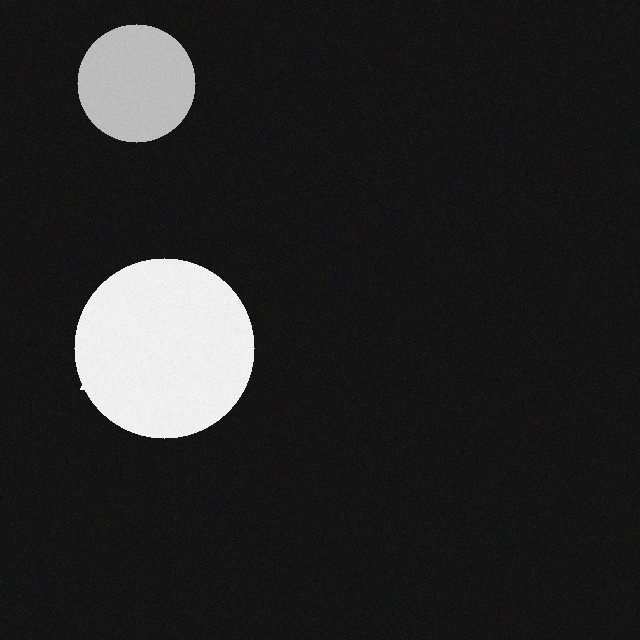circle: (59, 253, 239, 433), (62, 19, 180, 137)
triangle: (65, 274, 175, 384)
